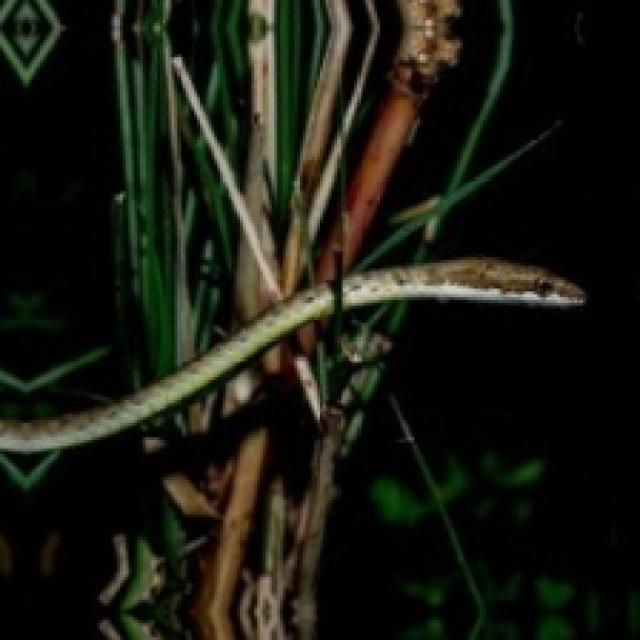philippine whip snake: (0, 286, 331, 451), (343, 257, 583, 306)
